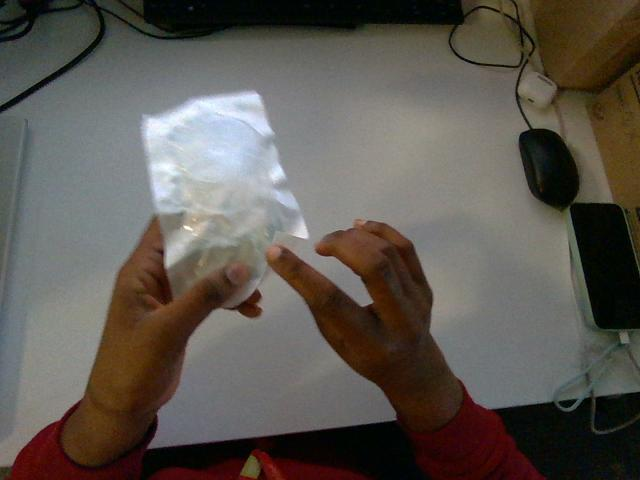gallipot: (142, 92, 307, 307)
